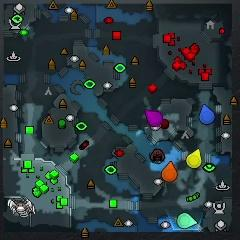p1: (200, 104, 215, 125)
p2: (178, 212, 197, 229)
p3: (145, 109, 163, 126)
p4: (186, 149, 201, 168)
p5: (162, 161, 177, 182)
